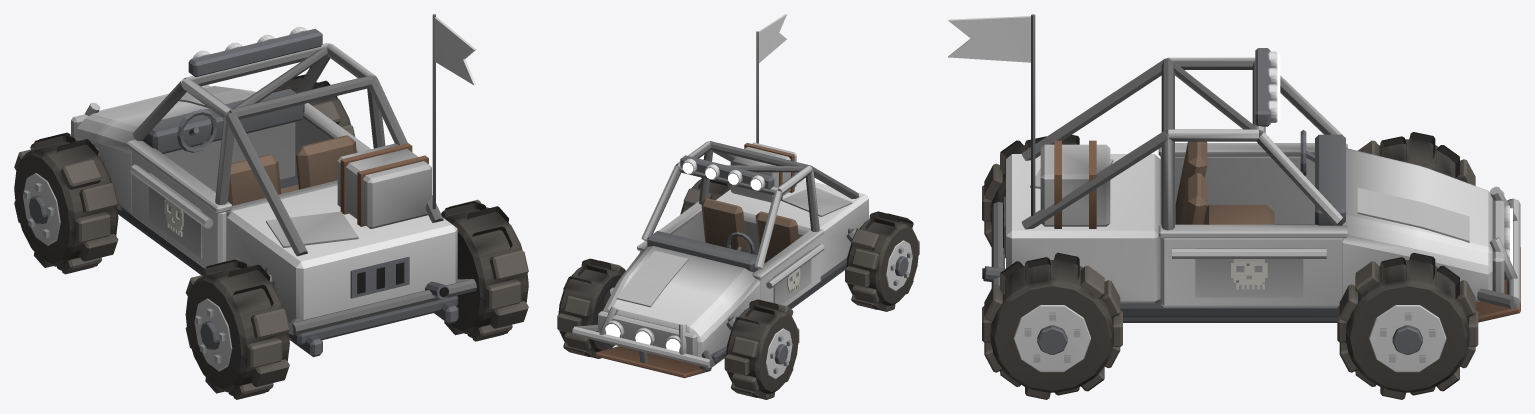
File: wasteland_buggy.glb
3 views of the same model, side by side, from view 1: azimuth 30°, elevation 25°; view 2: azimuth 150°, elevation 25°; view 3: azimuth 270°, elevation 25° (orthographic). The views are drawn at different scales.
Parts seen in each view (by area): view 1: Accent, Neutral; view 2: Accent, Neutral, Lamp; view 3: Accent, Neutral.
Part boxes in pixels (left/top/right/bottom): Accent: left=23, top=17, right=476, bottom=371; Neutral: left=14, top=14, right=528, bottom=399; Accent: left=572, top=14, right=912, bottom=379; Neutral: left=557, top=31, right=919, bottom=399; Lamp: left=605, top=162, right=761, bottom=351; Accent: left=948, top=16, right=1520, bottom=372; Neutral: left=982, top=14, right=1520, bottom=399.
Size of the model in its own units: 1.86 by 2 by 2.97.
